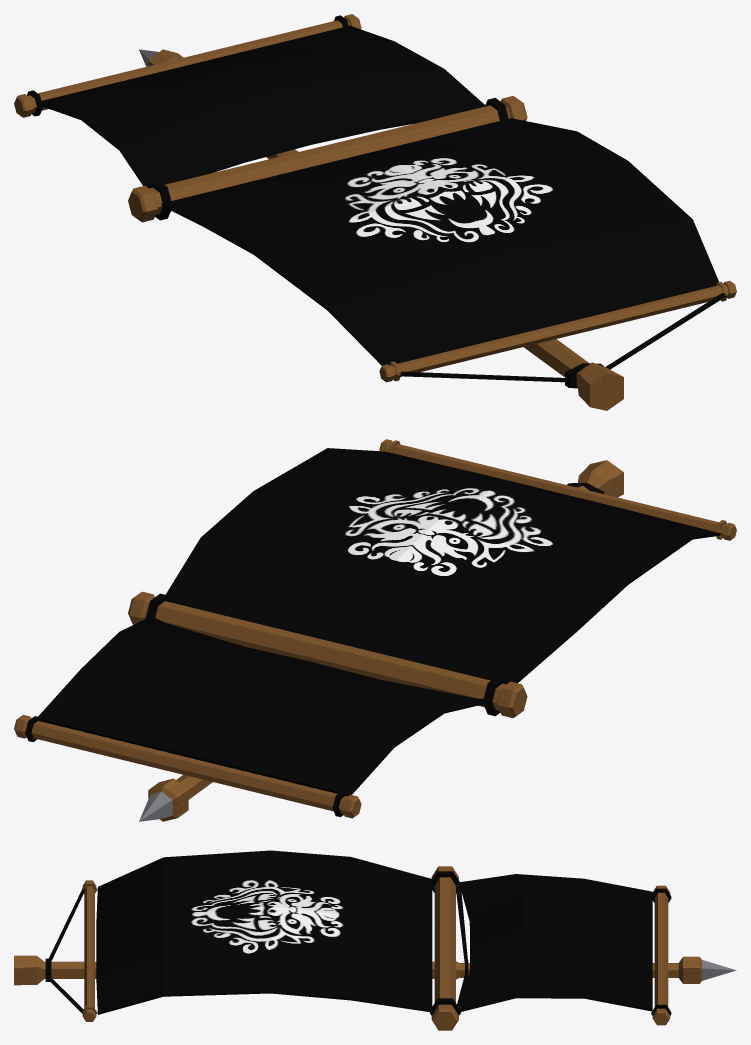
Rendered from sail_a_12.fbx.
3 renders of one model, top to bottom at view 1: azimuth 30°, elevation 25°; view 2: azimuth 150°, elevation 25°; view 3: azimuth 270°, elevation 25°, orthographic. The views are drawn at different scales.
Visible parts, largest first — view 1: Cube.062; view 2: Cube.062; view 3: Cube.062.
Boxes of the visible parts, x1,y1,x2,y2 form: Cube.062: [14, 14, 736, 410]; Cube.062: [14, 439, 736, 821]; Cube.062: [14, 850, 736, 1030].
Bounding box in the file's own units: 113 × 28.56 × 239.
